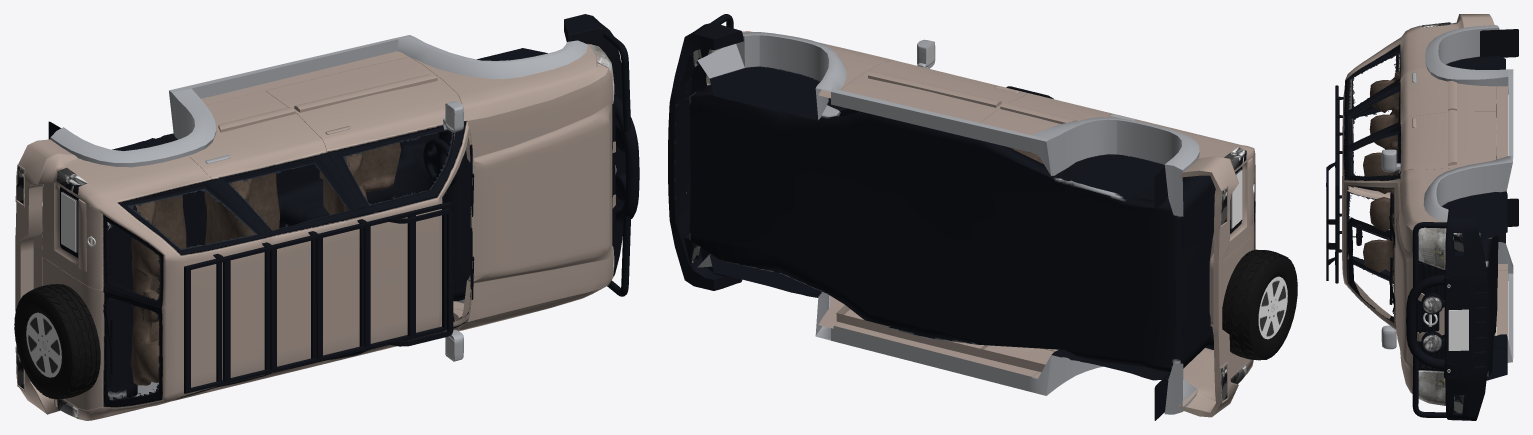
The model's file is suv_chassis_brown.obj.
The picture shows the model from 3 angles, left to right: view 1: azimuth 30°, elevation 25°; view 2: azimuth 150°, elevation 25°; view 3: azimuth 270°, elevation 25°; orthographic projection. The views are drawn at different scales.
Visible parts, largest first — view 1: Nissan_Chassis_OBJ_0331; view 2: Nissan_Chassis_OBJ_0331; view 3: Nissan_Chassis_OBJ_0331.
Part boxes in pixels (x1,y1,x2,y2): Nissan_Chassis_OBJ_0331: [14, 14, 639, 420]; Nissan_Chassis_OBJ_0331: [668, 14, 1297, 420]; Nissan_Chassis_OBJ_0331: [1326, 14, 1518, 420].
Bounding box in the file's own units: 5.33 × 2.24 × 1.91.
7 materials, 7 textured.
